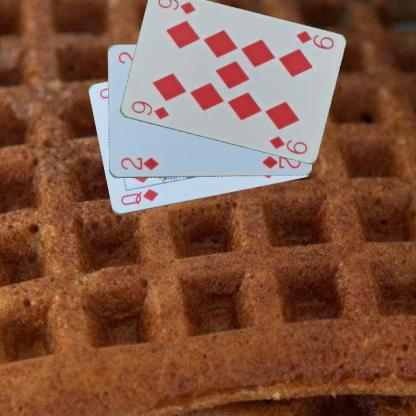2d: (118, 154, 159, 172)
9d: (128, 98, 170, 121), (293, 28, 335, 51)
Qd: (118, 186, 159, 207)
